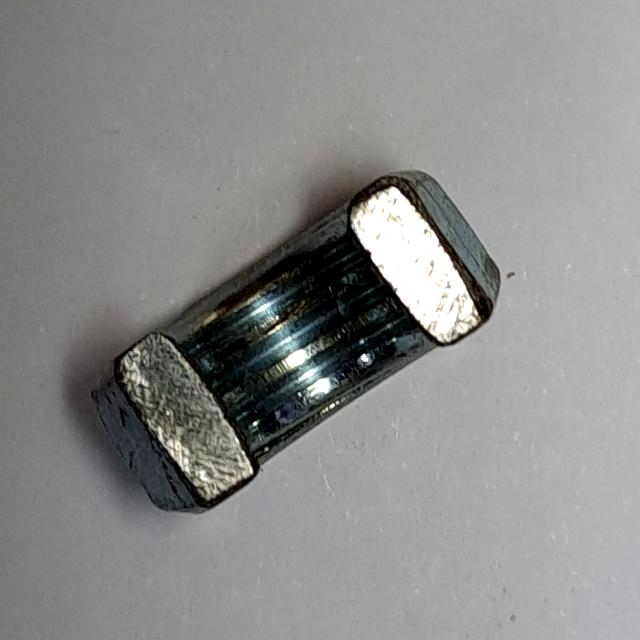Side-Fracture: (79, 156, 511, 527)
